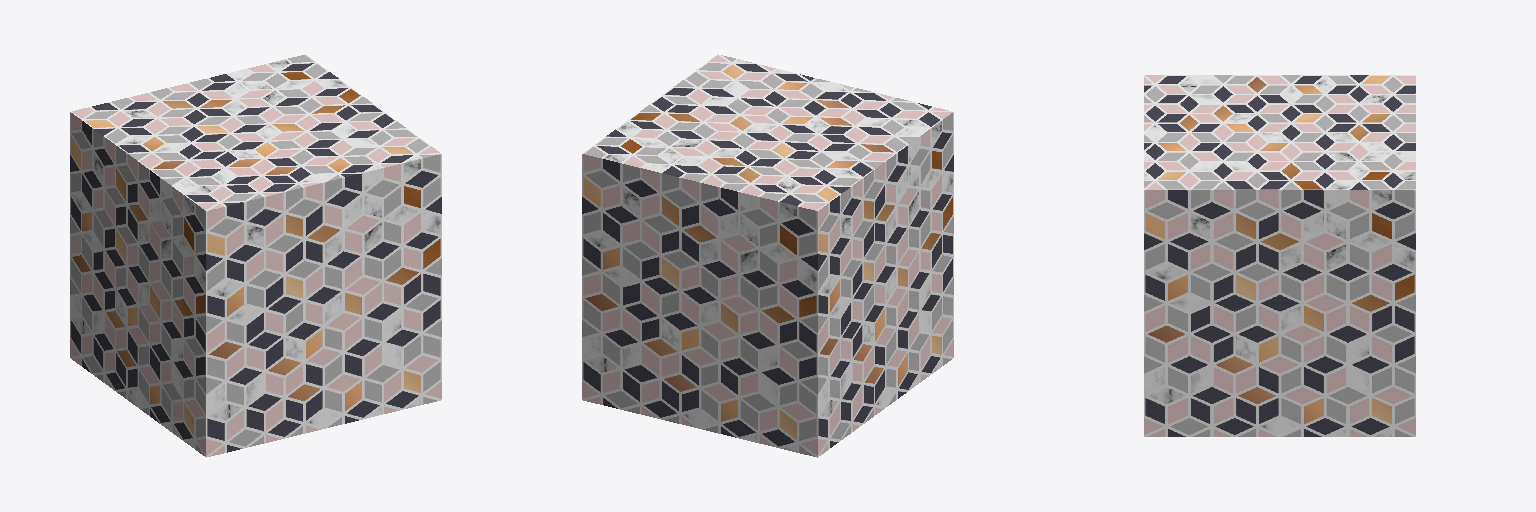
3 renders of one model, left to right at view 1: azimuth 30°, elevation 25°; view 2: azimuth 150°, elevation 25°; view 3: azimuth 270°, elevation 25°, orthographic.
Visible parts, largest first — view 1: Box001; view 2: Box001; view 3: Box001.
Part boxes in pixels (bbox=[...]): Box001: bbox=[70, 54, 441, 457]; Box001: bbox=[582, 54, 953, 457]; Box001: bbox=[1144, 75, 1415, 436].
Size of the model in its own units: 1 by 1 by 1.
Materials: 1 (1 with a texture image).